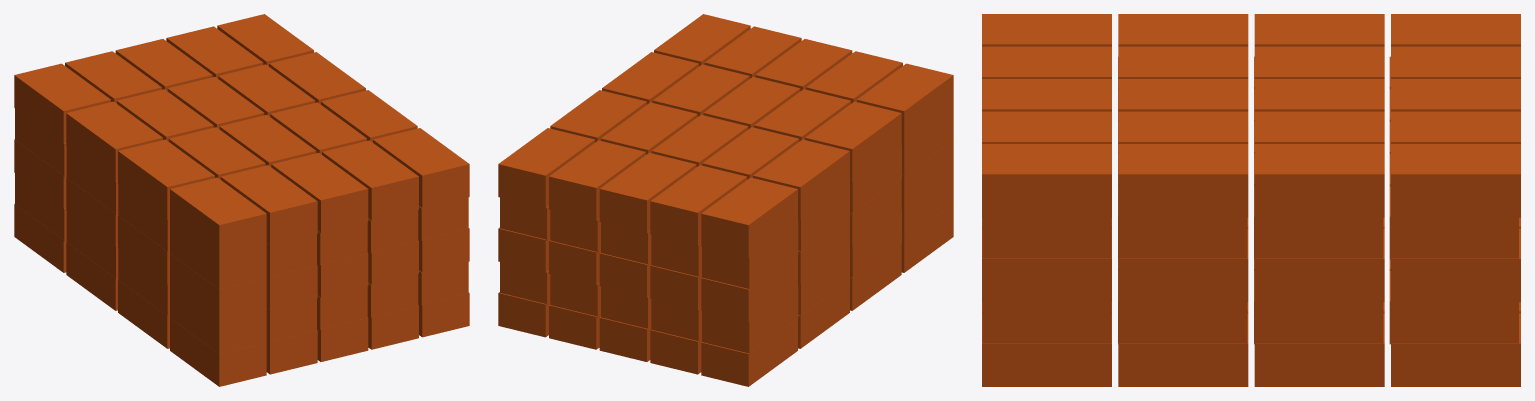
3 views of the same model, side by side, from view 1: azimuth 30°, elevation 25°; view 2: azimuth 150°, elevation 25°; view 3: azimuth 270°, elevation 25° (orthographic). The views are drawn at different scales.
Parts seen in each view (by area): view 1: A-2; view 2: A-2; view 3: A-2.
Boxes of the visible parts, left/top/right/bottom form: A-2: left=14, top=14, right=469, bottom=386; A-2: left=498, top=14, right=953, bottom=386; A-2: left=982, top=14, right=1520, bottom=386.
Size of the model in its own units: 306 by 189 by 434.
